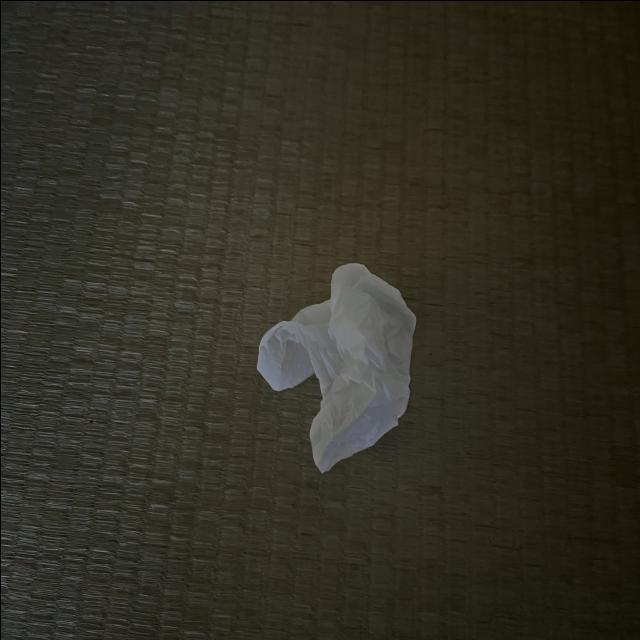Paper: (251, 259, 424, 464)
